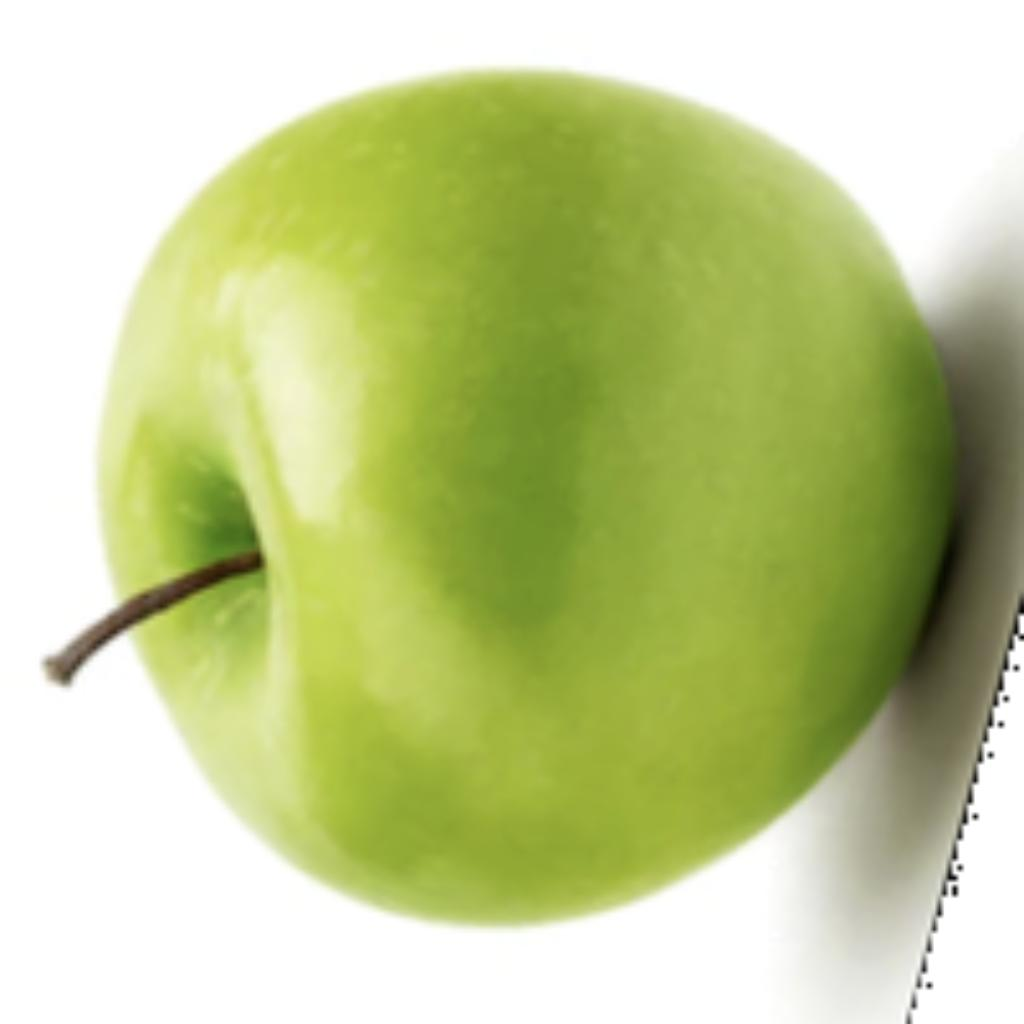apple: (36, 61, 1019, 1014)
